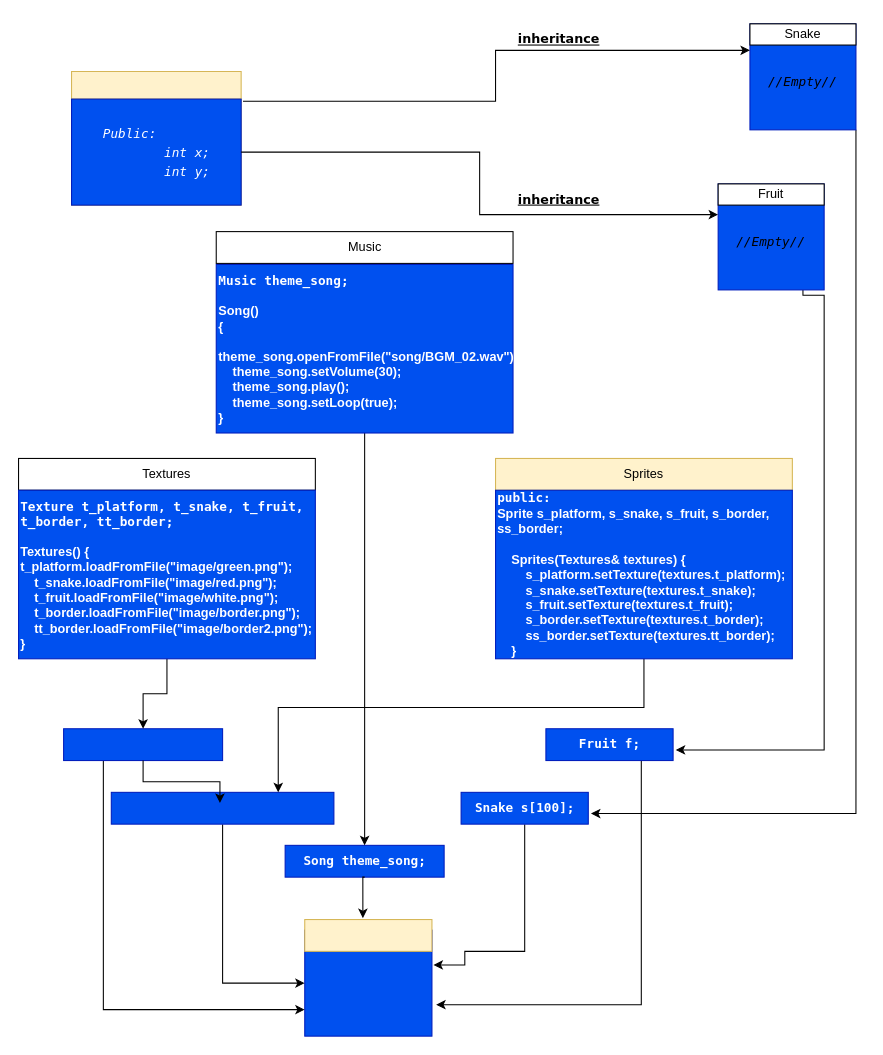
This 883x1055 diagram has some shape labels left out. The box of each missing label's shape, as (x1, y1, x2, y2) in pixels:
//Main game Logic//: (304, 929, 432, 1036)
Coordinates: (70, 70, 241, 205)
Main(): (304, 918, 432, 951)
Sprites sprites(textures);: (110, 791, 334, 824)
Textures textures;: (63, 728, 223, 761)
